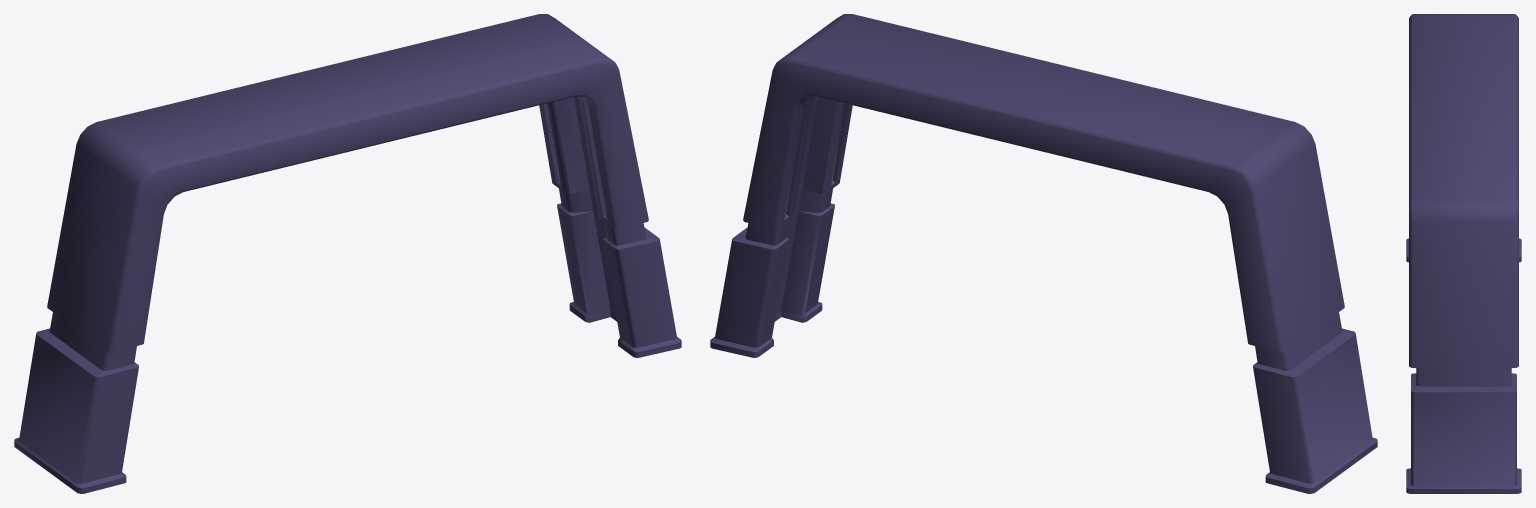
Rendered from Mh_MidDoorFrame.fbx.
3 renders of one model, left to right at view 1: azimuth 30°, elevation 25°; view 2: azimuth 150°, elevation 25°; view 3: azimuth 270°, elevation 25°, orthographic. The views are drawn at different scales.
Visible parts, largest first — view 1: Mh_MidDoorFrame; view 2: Mh_MidDoorFrame; view 3: Mh_MidDoorFrame.
Boxes of the visible parts, bbox=[...] form: Mh_MidDoorFrame: bbox=[14, 14, 681, 493]; Mh_MidDoorFrame: bbox=[710, 14, 1377, 493]; Mh_MidDoorFrame: bbox=[1406, 14, 1521, 493].
Bounding box in the file's own units: 604 × 293 × 118.
